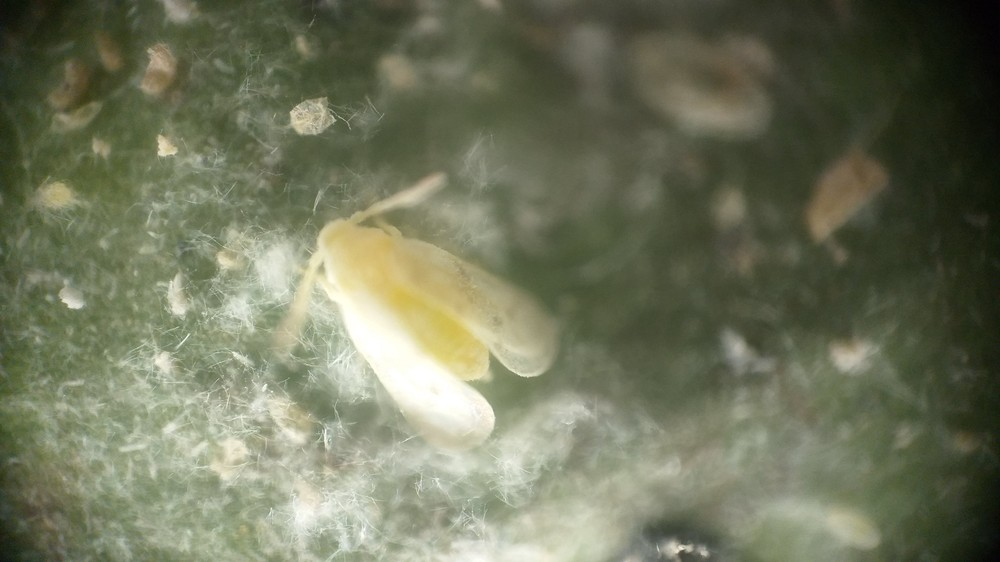Mosca Blanca: (264, 164, 585, 473)
